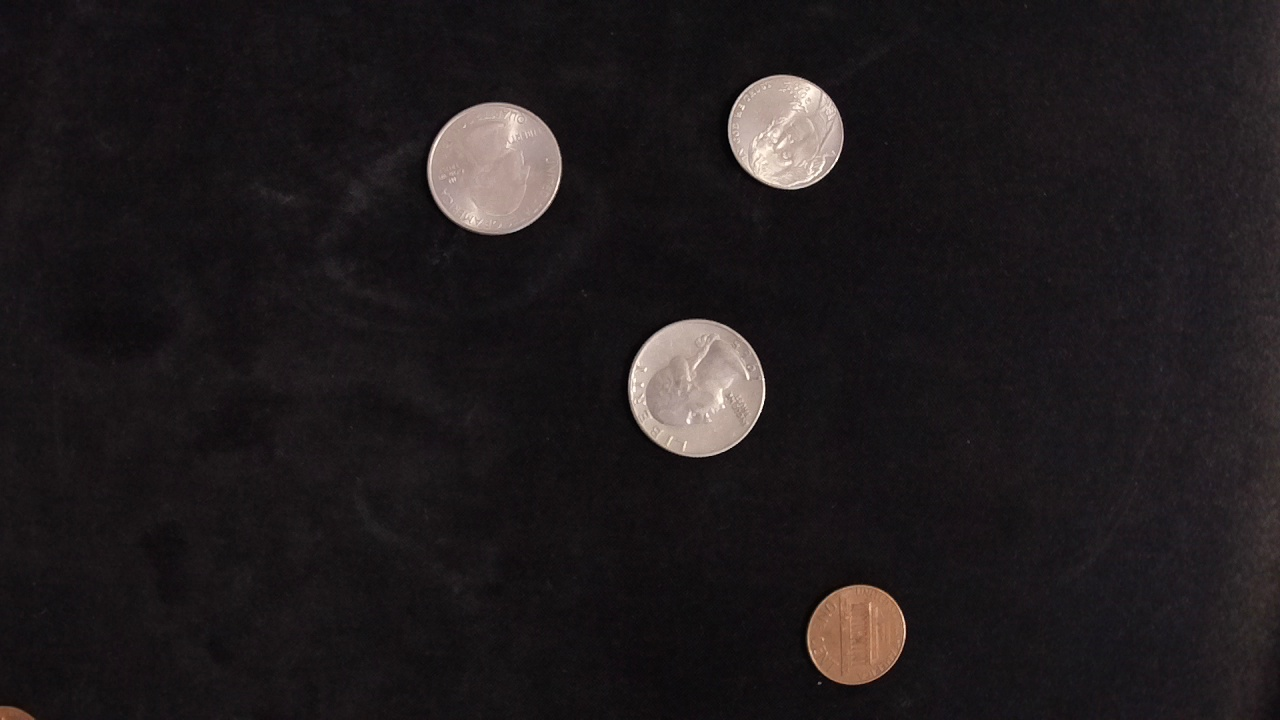nickel: (722, 66, 844, 198)
penny: (802, 579, 912, 687)
quarter: (622, 313, 770, 463), (423, 94, 565, 240)
